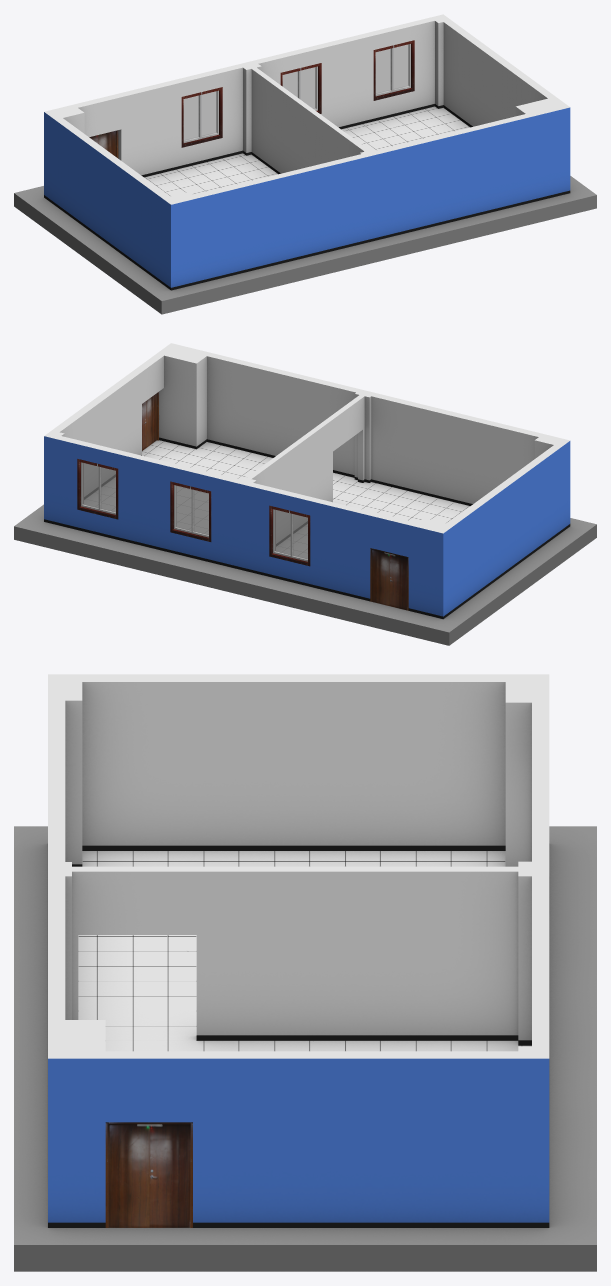
Rendered from room_jf_xl_1f.glb.
3 views of the same model, one above another, from view 1: azimuth 30°, elevation 25°; view 2: azimuth 150°, elevation 25°; view 3: azimuth 270°, elevation 25° (orthographic). The views are drawn at different scales.
Visible parts, largest first — view 1: qiang, di, chuang002, chuang, chuang001, men175; view 2: qiang, di, chuang001, chuang, chuang002, men175, men176; view 3: qiang, di, men176.
Boxes of the visible parts, bbox=[...] form: qiang: bbox=[44, 14, 570, 290]; di: bbox=[14, 106, 596, 314]; chuang002: bbox=[373, 40, 414, 100]; chuang: bbox=[181, 87, 222, 147]; chuang001: bbox=[280, 63, 321, 113]; men175: bbox=[89, 130, 118, 158]; qiang: bbox=[44, 343, 570, 619]; di: bbox=[14, 440, 596, 645]; chuang001: bbox=[170, 481, 211, 541]; chuang: bbox=[269, 505, 310, 566]; chuang002: bbox=[77, 459, 118, 519]; men175: bbox=[370, 548, 408, 610]; men176: bbox=[142, 392, 158, 450]; qiang: bbox=[48, 674, 549, 1227]; di: bbox=[14, 826, 596, 1271]; men176: bbox=[105, 1122, 192, 1227].
Size of what is drawn, in the model's own units: 17 by 3.7 by 10.
Materials: 6 (5 with a texture image).
